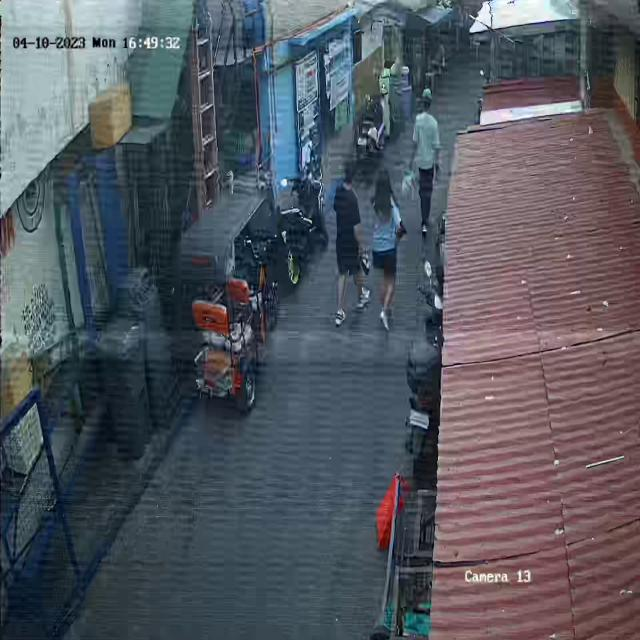human: (368, 156, 404, 333), (335, 161, 370, 324), (401, 88, 441, 227)
trash: (399, 156, 419, 205)
